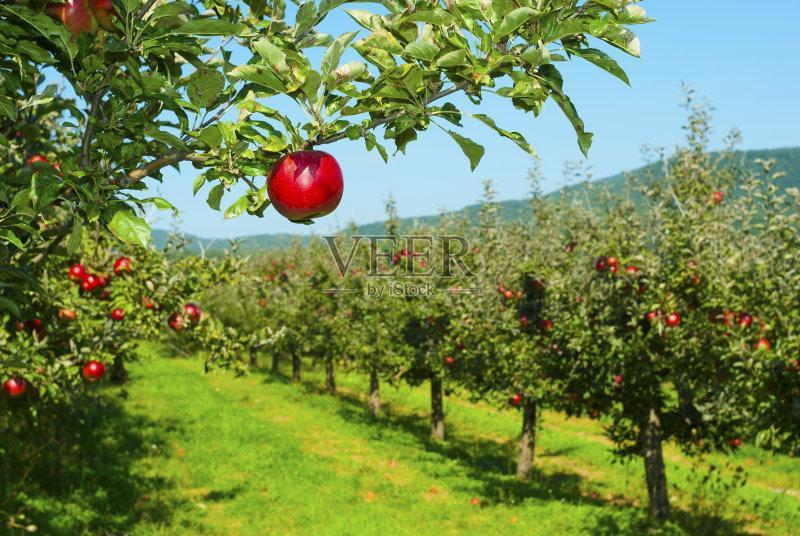apple: (266, 149, 344, 221)
